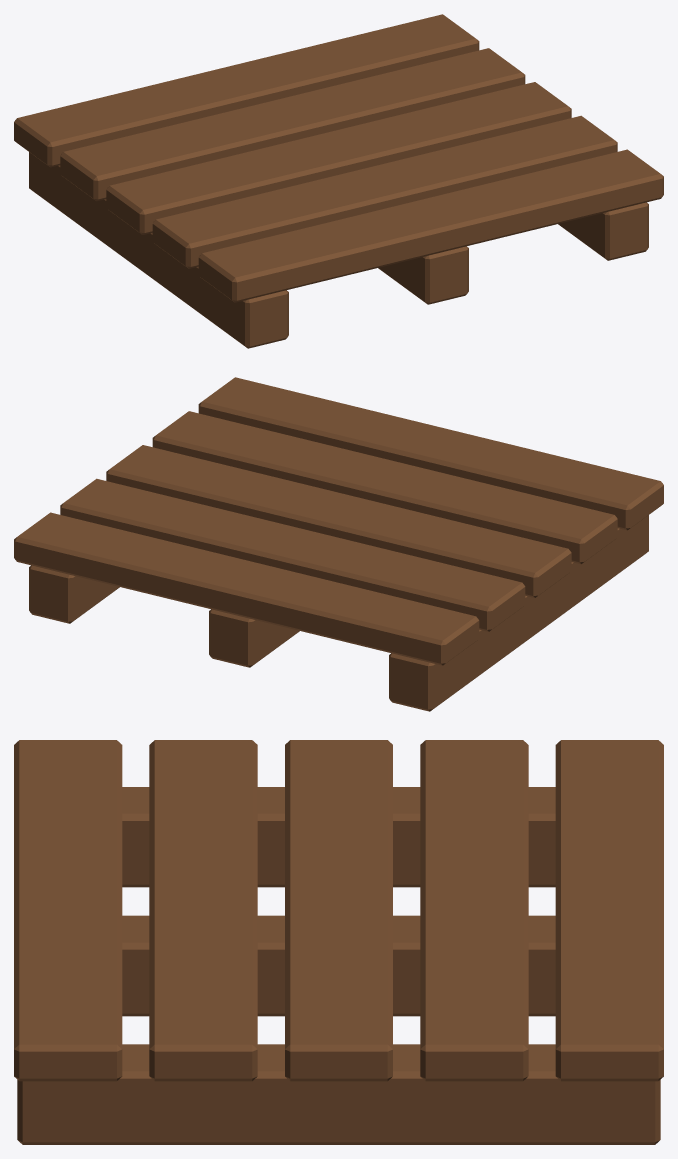
File: ParkingPallet.fbx
3 views of the same model, one above another, from view 1: azimuth 30°, elevation 25°; view 2: azimuth 150°, elevation 25°; view 3: azimuth 270°, elevation 25° (orthographic). The views are drawn at different scales.
Visible parts, largest first — view 1: ParkingPallet; view 2: ParkingPallet; view 3: ParkingPallet.
Part boxes in pixels (x1,y1,x2,y2): ParkingPallet: (14,14,663,348); ParkingPallet: (14,377,663,711); ParkingPallet: (14,740,663,1144).
Size of the model in its own units: 108 by 18 by 96.
Materials: 1 (1 with a texture image).
